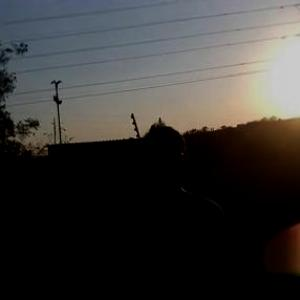follow: (113, 120, 250, 299)
